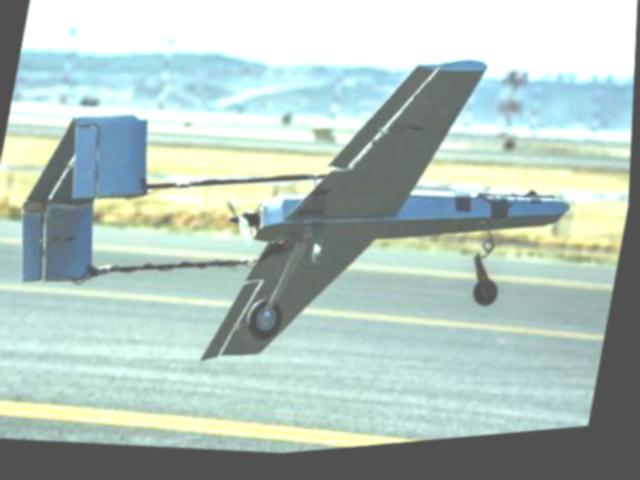uav: (0, 0, 599, 426)
